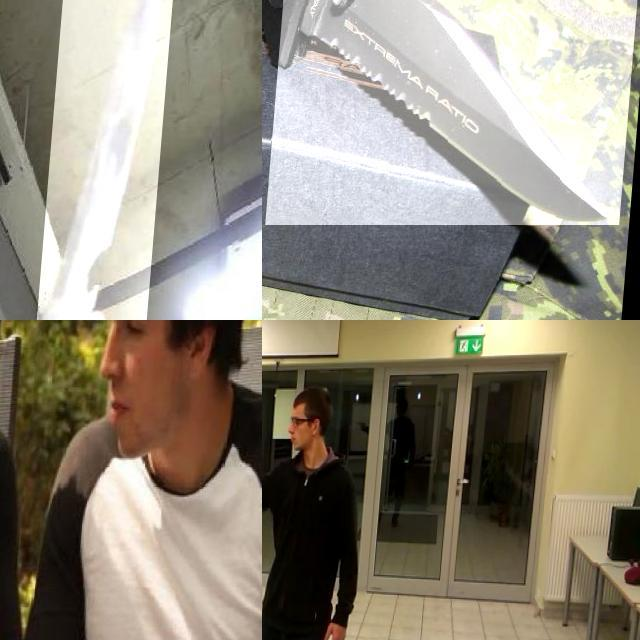-: (272, 0, 640, 225), (34, 0, 178, 320), (0, 466, 43, 640)
gun-knife-thesis - v11 Yolov5 augmented: (262, 454, 284, 500)
